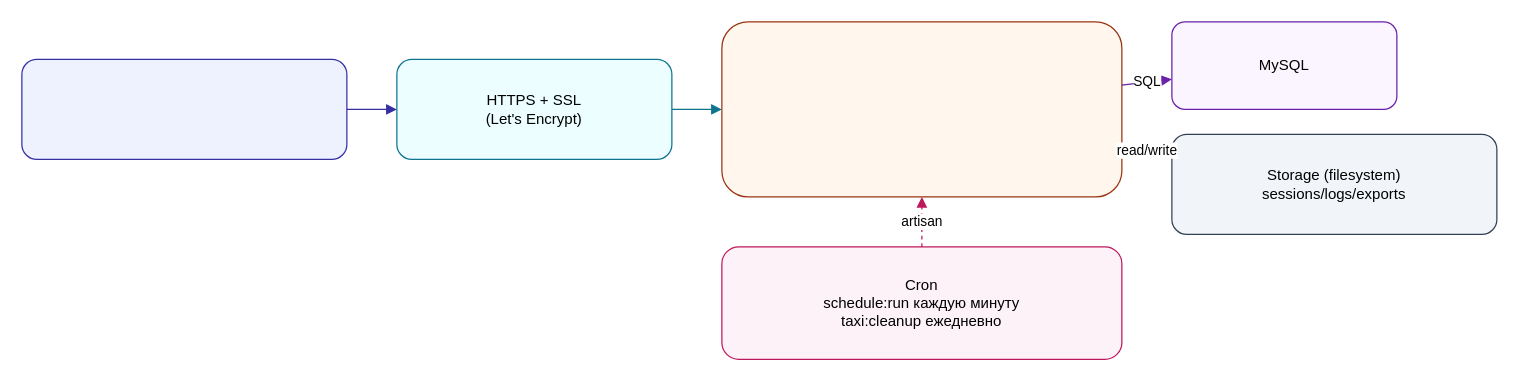
Some shapes in this 1519 by 381 pixel diagram are drawn without their labels. The shapes that lost their labels are listed below. From the top down, each one's box as (x1, y1, x2, y2) in pixels, then its label:
(21, 58, 347, 159): Пользователь (Employee / Manager / Admin)
(721, 21, 1122, 197): Laravel App (routes, controllers, services) Blade UI
